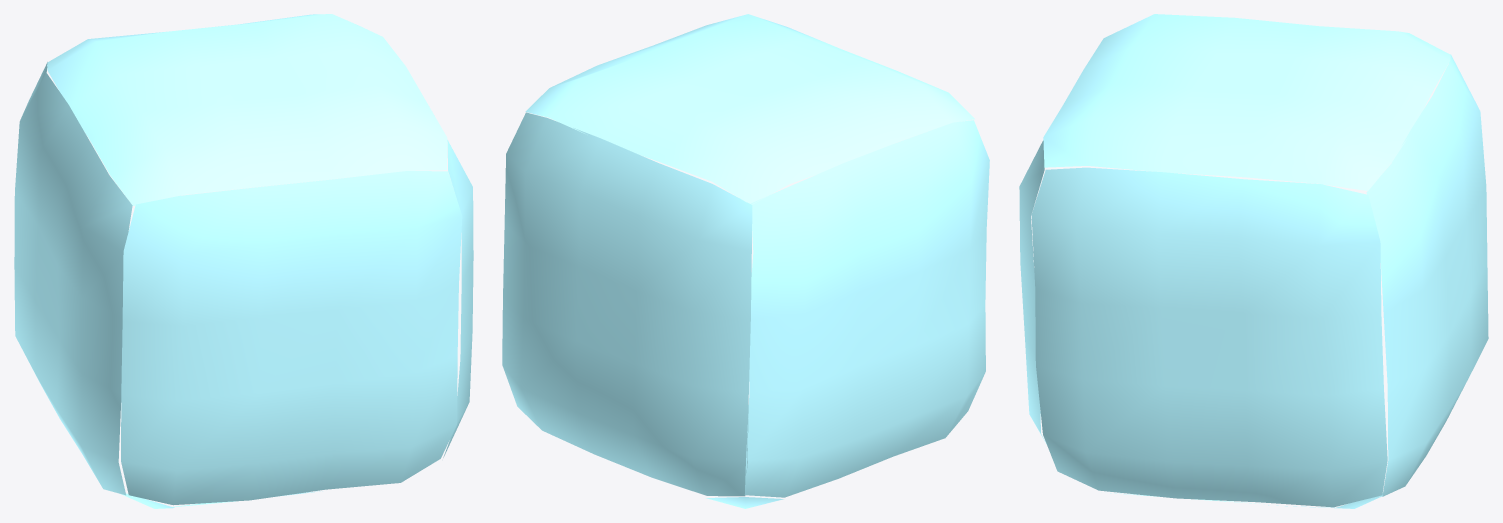
File: ice-cube.glb
3 views of the same model, side by side, from view 1: azimuth 30°, elevation 25°; view 2: azimuth 150°, elevation 25°; view 3: azimuth 270°, elevation 25° (orthographic). The views are drawn at different scales.
Size of the model in its own units: 0.9186 by 0.8438 by 0.928.
